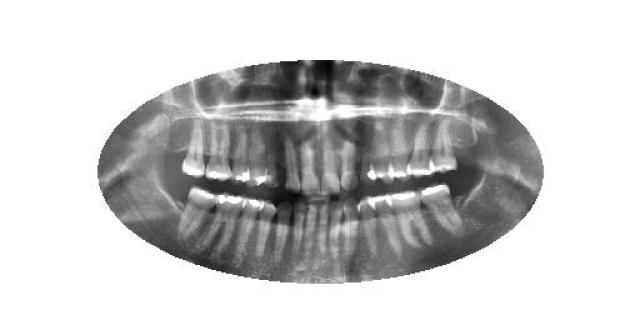Fillings: (388, 189, 432, 249), (202, 192, 246, 250), (420, 181, 462, 235), (178, 186, 218, 238), (208, 121, 232, 181), (181, 119, 205, 179), (238, 198, 262, 254), (231, 130, 250, 184)
